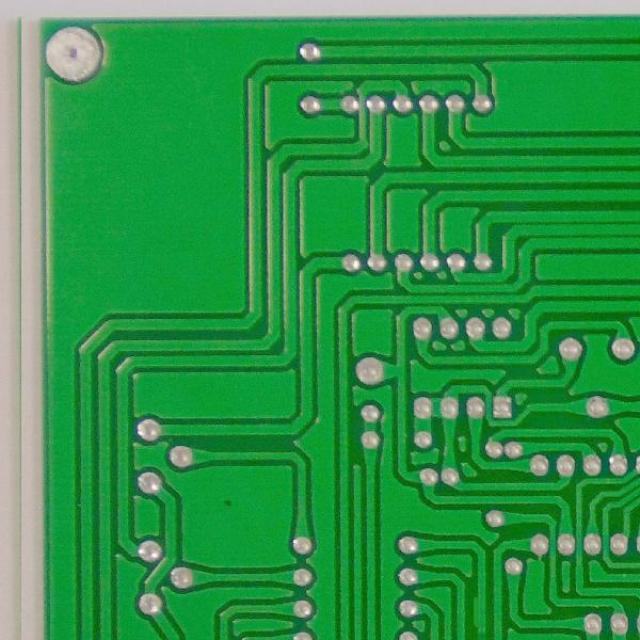Spur: (467, 592, 492, 634)
